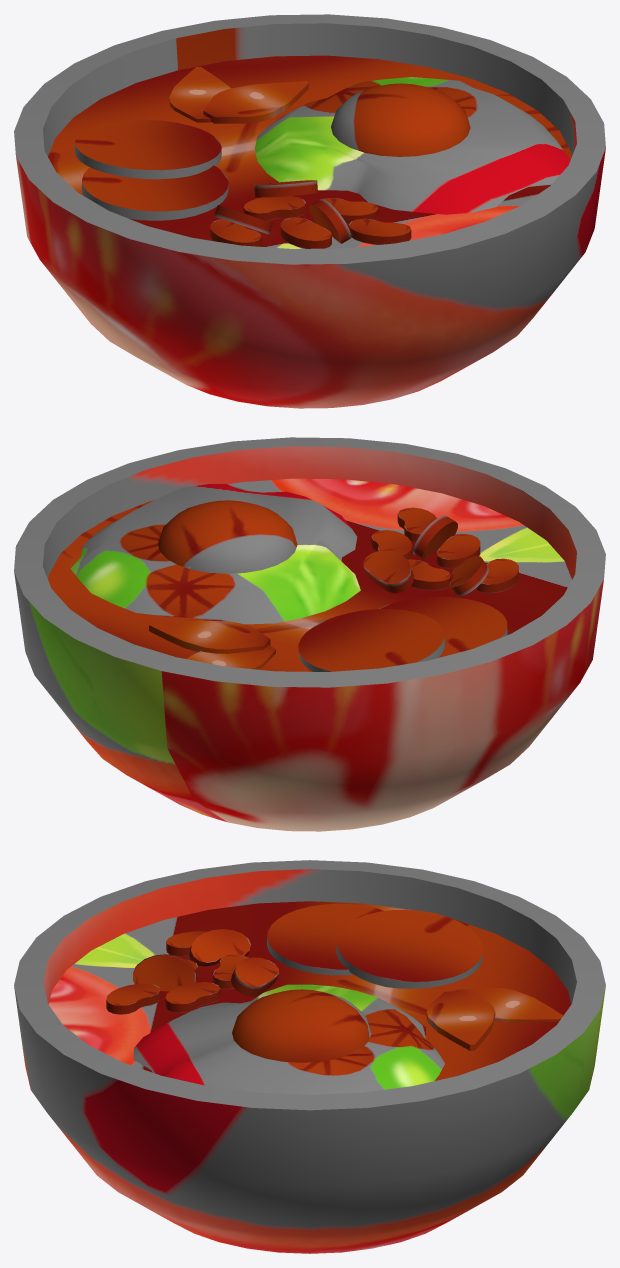
File: 2_5_soup.fbx
The picture shows the model from 3 angles, top to bottom: view 1: azimuth 30°, elevation 25°; view 2: azimuth 150°, elevation 25°; view 3: azimuth 270°, elevation 25°; orthographic projection.
Visible parts, largest first — view 1: tomato.033; view 2: tomato.033; view 3: tomato.033.
Boxes of the visible parts, x1,y1,x2,y2 form: tomato.033: (14,14,605,408); tomato.033: (14,437,605,831); tomato.033: (14,860,605,1253).
Size of the model in its own units: 3.62 by 1.67 by 3.62.
